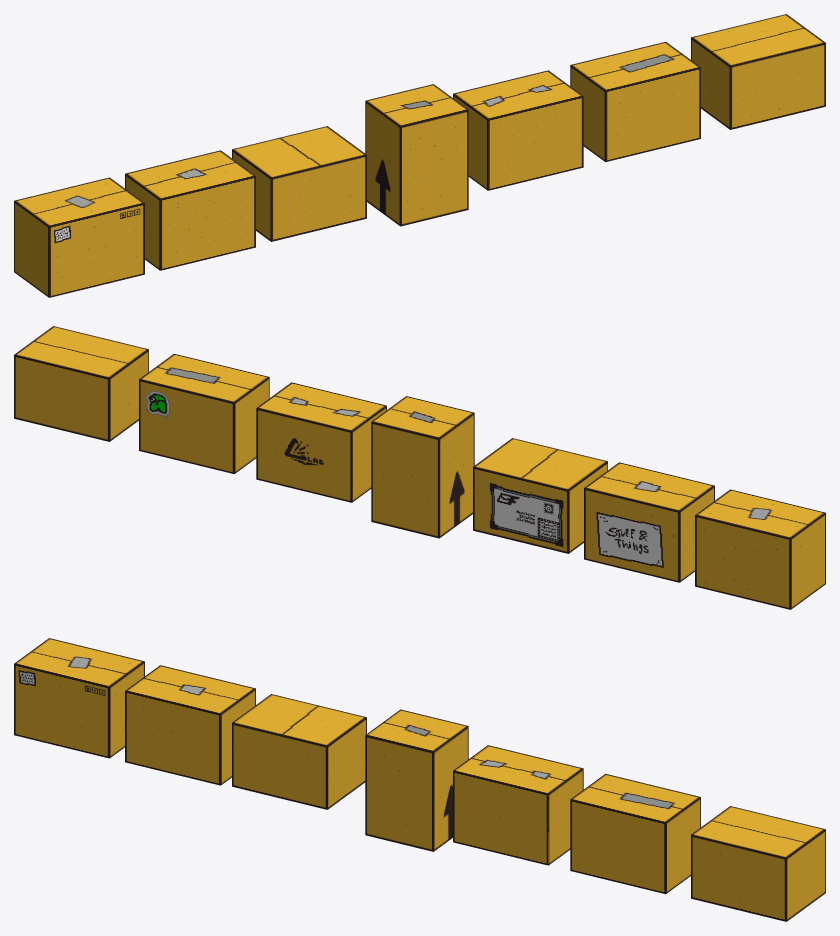
File: Boxes.fbx
3 views of the same model, one above another, from view 1: azimuth 30°, elevation 25°; view 2: azimuth 150°, elevation 25°; view 3: azimuth 330°, elevation 25° (orthographic).
Visible parts, largest first — view 1: Cube, Cube.003, Cube.005, Cube.006, Cube.004, Cube.001, Cube.002; view 2: Cube, Cube.003, Cube.005, Cube.006, Cube.004, Cube.001, Cube.002; view 3: Cube.006, Cube.002, Cube.005, Cube.004, Cube.003, Cube, Cube.001.
Part boxes in pixels (<box>): Cube: <box>14,177,144,297</box>; Cube.003: <box>365,84,468,226</box>; Cube.005: <box>570,41,700,161</box>; Cube.006: <box>691,14,825,129</box>; Cube.004: <box>453,70,583,190</box>; Cube.001: <box>125,150,255,270</box>; Cube.002: <box>232,126,366,241</box>; Cube: <box>695,489,825,609</box>; Cube.003: <box>371,396,474,538</box>; Cube.005: <box>139,353,269,473</box>; Cube.006: <box>14,326,148,441</box>; Cube.004: <box>256,382,386,502</box>; Cube.001: <box>584,462,714,582</box>; Cube.002: <box>473,438,607,553</box>; Cube.006: <box>691,806,825,921</box>; Cube.002: <box>232,694,366,809</box>; Cube.005: <box>570,774,700,894</box>; Cube.004: <box>453,745,583,865</box>; Cube.003: <box>365,709,468,851</box>; Cube: <box>14,638,144,758</box>; Cube.001: <box>125,665,255,785</box>.
Bounding box in the file's own units: 2269 × 280 × 200.
